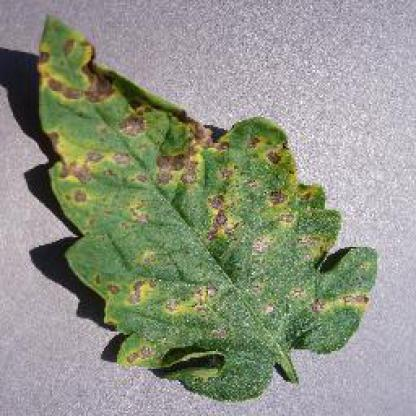bad leaf: (22, 1, 382, 407)
